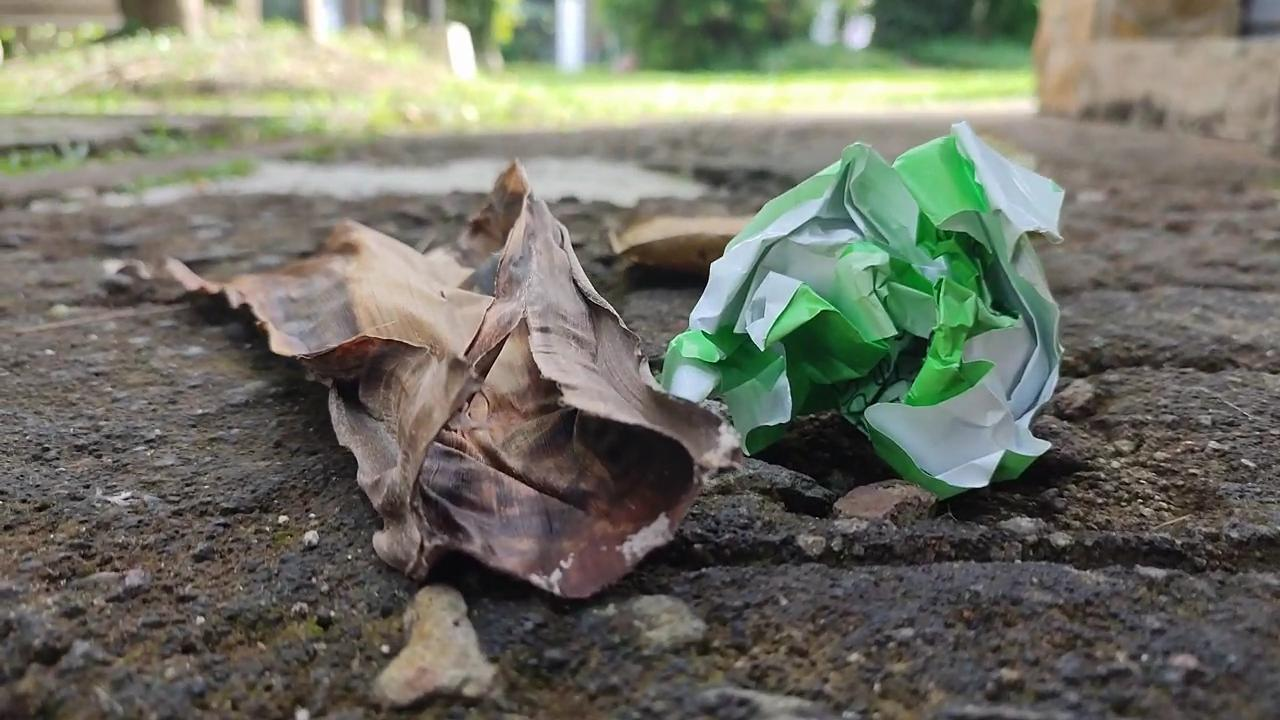Paper: (669, 112, 1075, 518)
